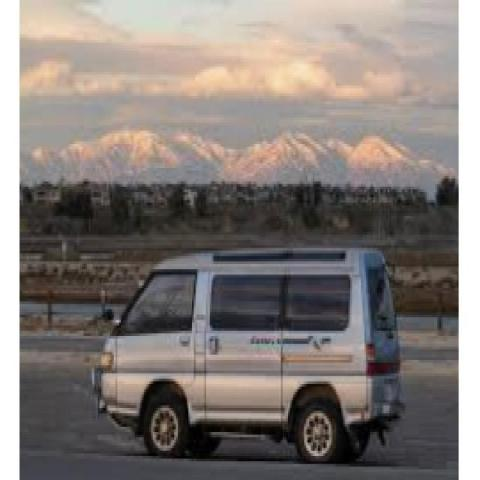van: (92, 244, 406, 466)
